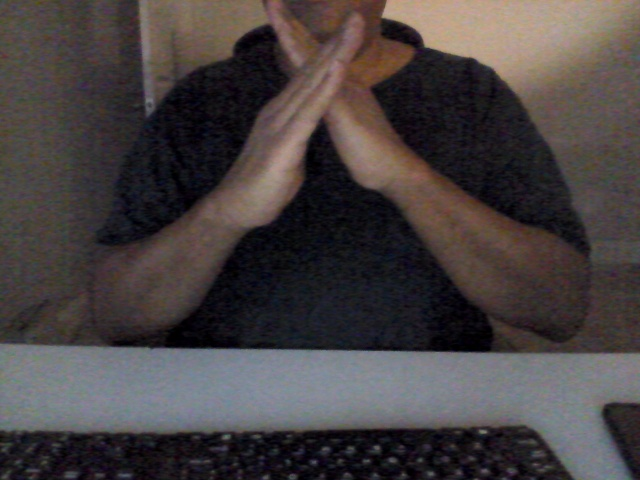quiet: (225, 1, 417, 238)
